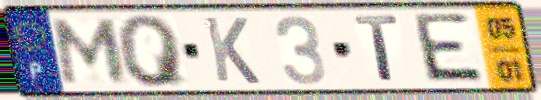3: (273, 14, 328, 86)
E: (412, 11, 489, 86)
K: (201, 14, 264, 87)
M: (52, 17, 130, 87)
Q: (114, 13, 191, 90)
T: (351, 13, 402, 85)
